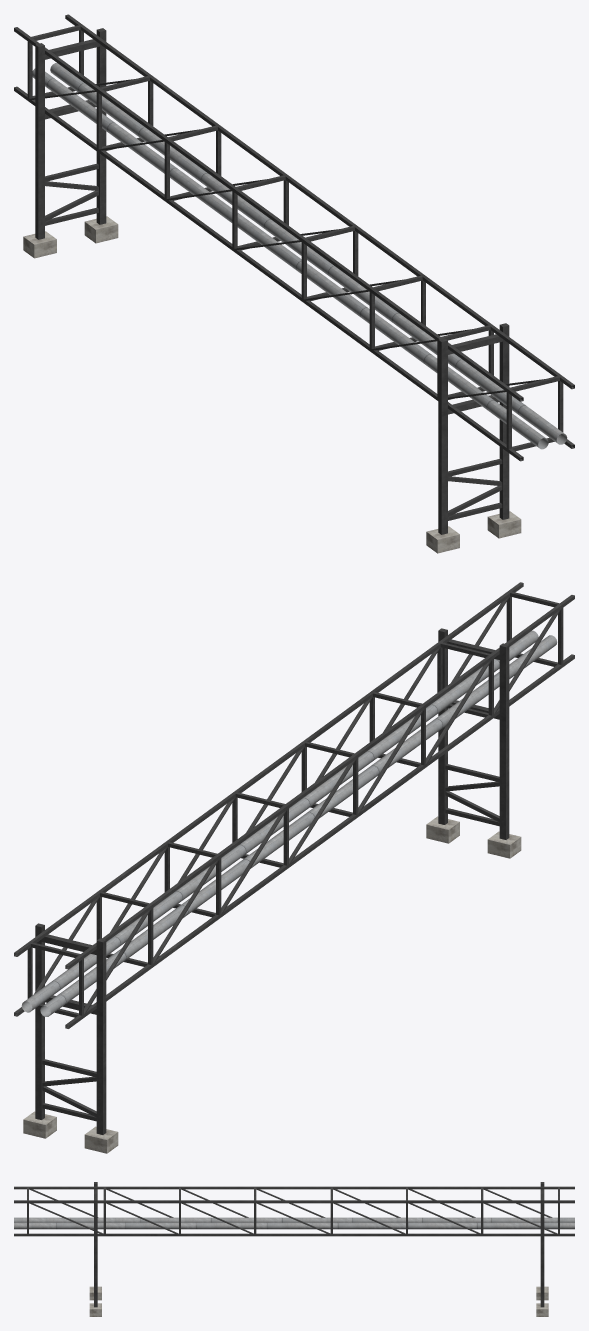
File: plant-building51-1.glb
3 views of the same model, one above another, from view 1: azimuth 30°, elevation 25°; view 2: azimuth 150°, elevation 25°; view 3: azimuth 270°, elevation 25° (orthographic). The views are drawn at different scales.
Visible parts, largest first — view 1: Object8935897; view 2: Object8935897; view 3: Object8935897.
Part boxes in pixels (x1,y1,x2,y2): Object8935897: (14,14,574,553); Object8935897: (14,582,574,1153); Object8935897: (14,1182,574,1316).
Bounding box in the file's own units: 4.28 × 10.08 × 44.78.
Materials: 1 (1 with a texture image).
